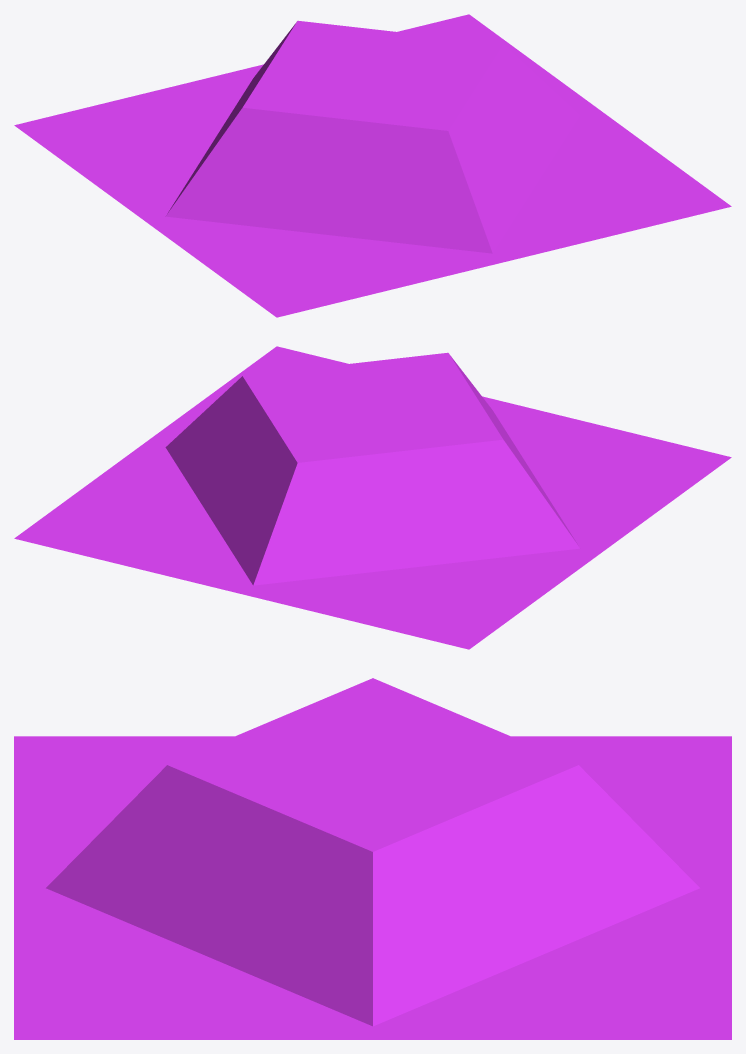
The model's file is MODEL_Generator_Start.FBX.
The picture shows the model from 3 angles, top to bottom: view 1: azimuth 30°, elevation 25°; view 2: azimuth 150°, elevation 25°; view 3: azimuth 270°, elevation 25°; orthographic projection. The views are drawn at different scales.
Parts seen in each view (by area): view 1: MESH_Generator_Start; view 2: MESH_Generator_Start; view 3: MESH_Generator_Start.
Boxes of the visible parts, <box> form: MESH_Generator_Start: <box>14,14,731,317</box>; MESH_Generator_Start: <box>14,346,731,649</box>; MESH_Generator_Start: <box>14,678,731,1039</box>.
Bounding box in the file's own units: 10 × 1.89 × 10.
